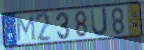2: (34, 11, 54, 44)
3: (55, 11, 71, 41)
8: (110, 7, 126, 36), (73, 10, 89, 39)
M: (15, 14, 36, 43)
U: (89, 7, 109, 39)
